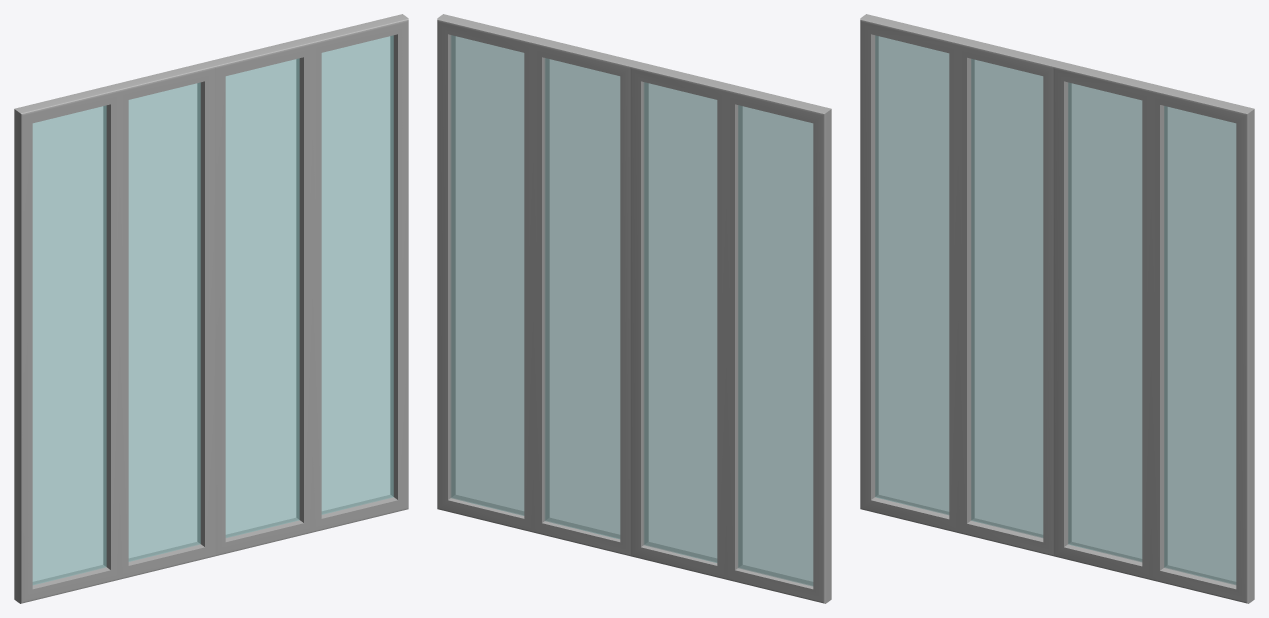
The model's file is WindowTall_01.fbx.
3 renders of one model, left to right at view 1: azimuth 30°, elevation 25°; view 2: azimuth 150°, elevation 25°; view 3: azimuth 330°, elevation 25°, orthographic.
Parts seen in each view (by area): view 1: WindowTall_01; view 2: WindowTall_01; view 3: WindowTall_01.
Boxes of the visible parts, x1,y1,x2,y2 form: WindowTall_01: [14, 14, 408, 603]; WindowTall_01: [437, 14, 831, 603]; WindowTall_01: [860, 14, 1254, 603].
Size of the model in its own units: 200 by 241 by 6.84.
